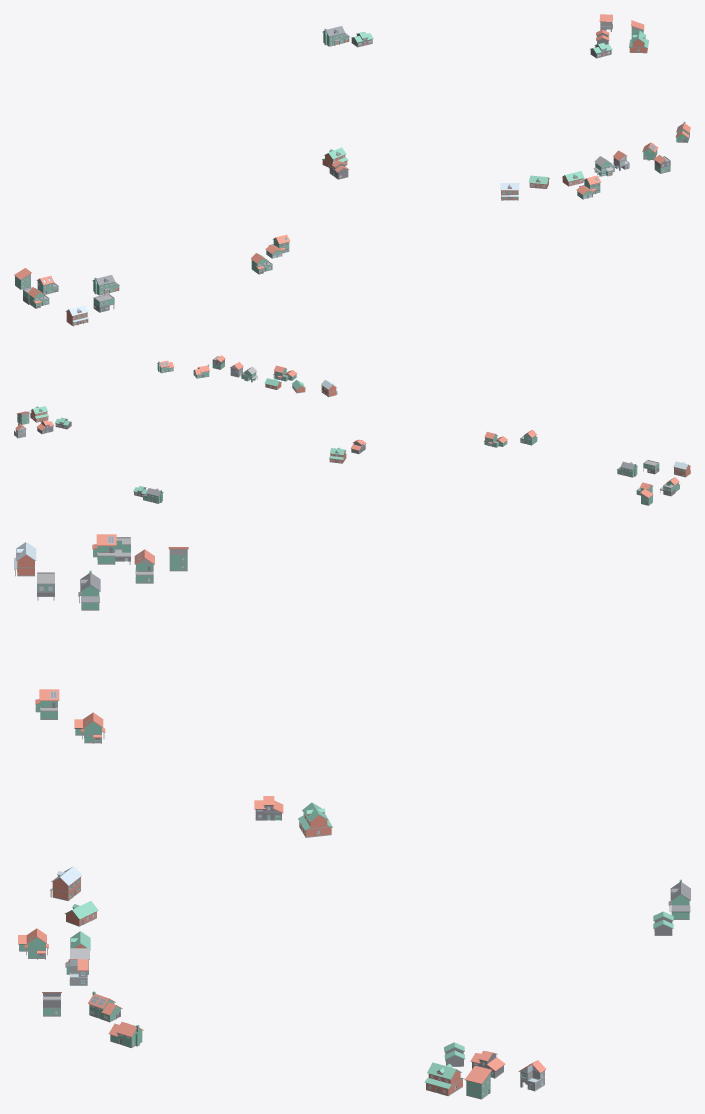
The model's file is House.glb.
3 renders of one model, top to bottom at view 1: azimuth 30°, elevation 25°; view 2: azimuth 150°, elevation 25°; view 3: azimuth 270°, elevation 25°, orthographic. The views are drawn at different scales.
Parts seen in each view (by area): view 1: no part large enough to name; view 2: house_type10.004, house_type10.003, house_type08.003, house_type06.004, house_type08.004; view 3: house_type06.004, house_type06.003.
Boxes of the visible parts, x1=… form: house_type10.004: x1=273, y1=365, x2=297, y2=381; house_type10.003: x1=484, y1=432, x2=507, y2=447; house_type08.003: x1=617, y1=461, x2=637, y2=477; house_type06.004: x1=30, y1=406, x2=48, y2=422; house_type08.004: x1=143, y1=488, x2=163, y2=503; house_type06.004: x1=424, y1=1062, x2=464, y2=1096; house_type06.003: x1=298, y1=802, x2=332, y2=837.
Size of the model in its own units: 73.19 by 2.21 by 38.16.
